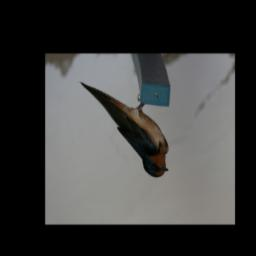Swallow: (78, 80, 171, 180)
